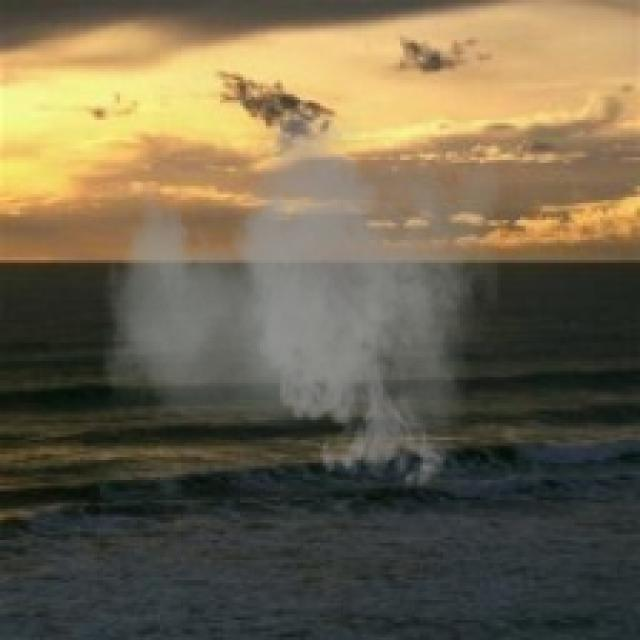smoke: (103, 91, 500, 500)
